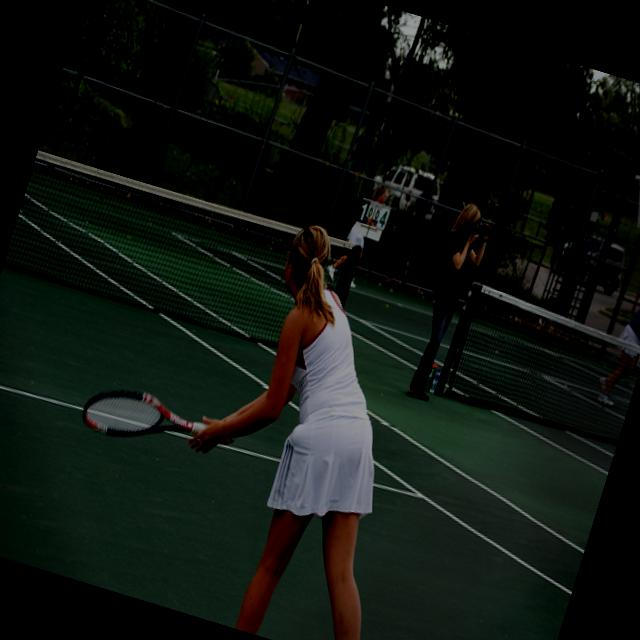Vehicle: (546, 226, 628, 296), (366, 157, 446, 223)
